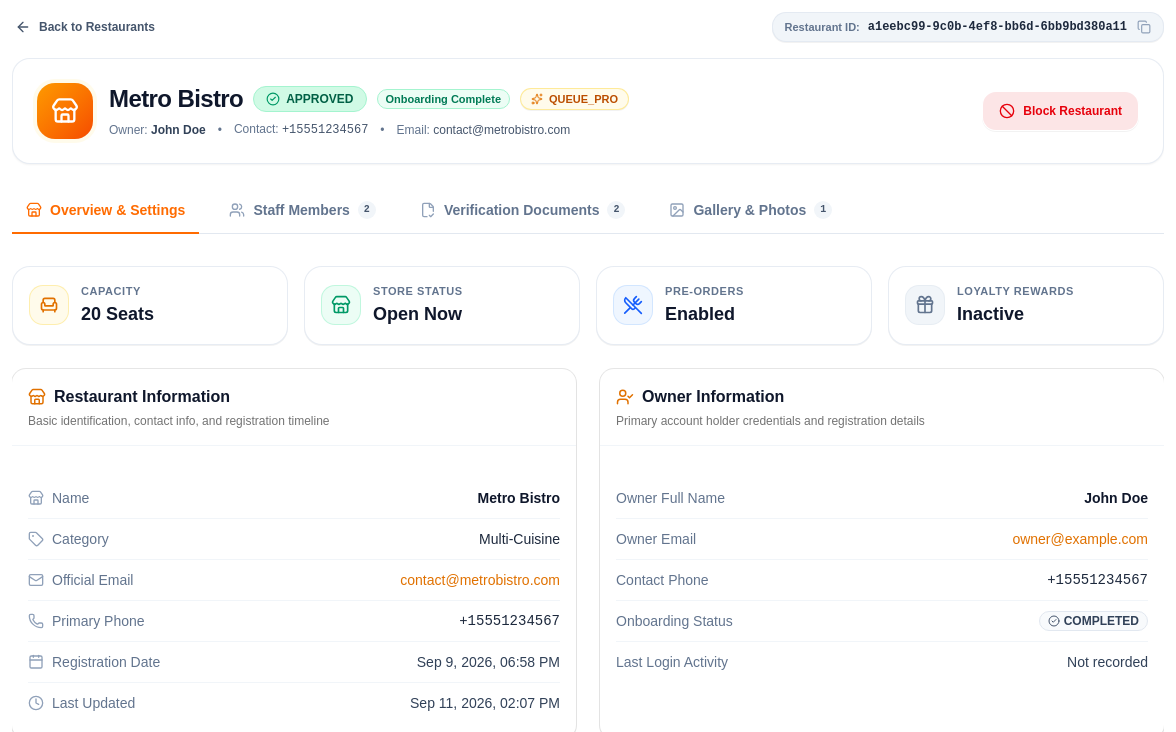
Test: AdminRestaurantDetailsPage › switches tabs to Staff, Documents, and Images correctly
Expected: the heading "Metro Bistro" is shown, 109,83 -> 243,115
Note: Switch to Staff Tab
Click the button with test id "tab-staff": click(303, 211) 215,188 -> 390,234
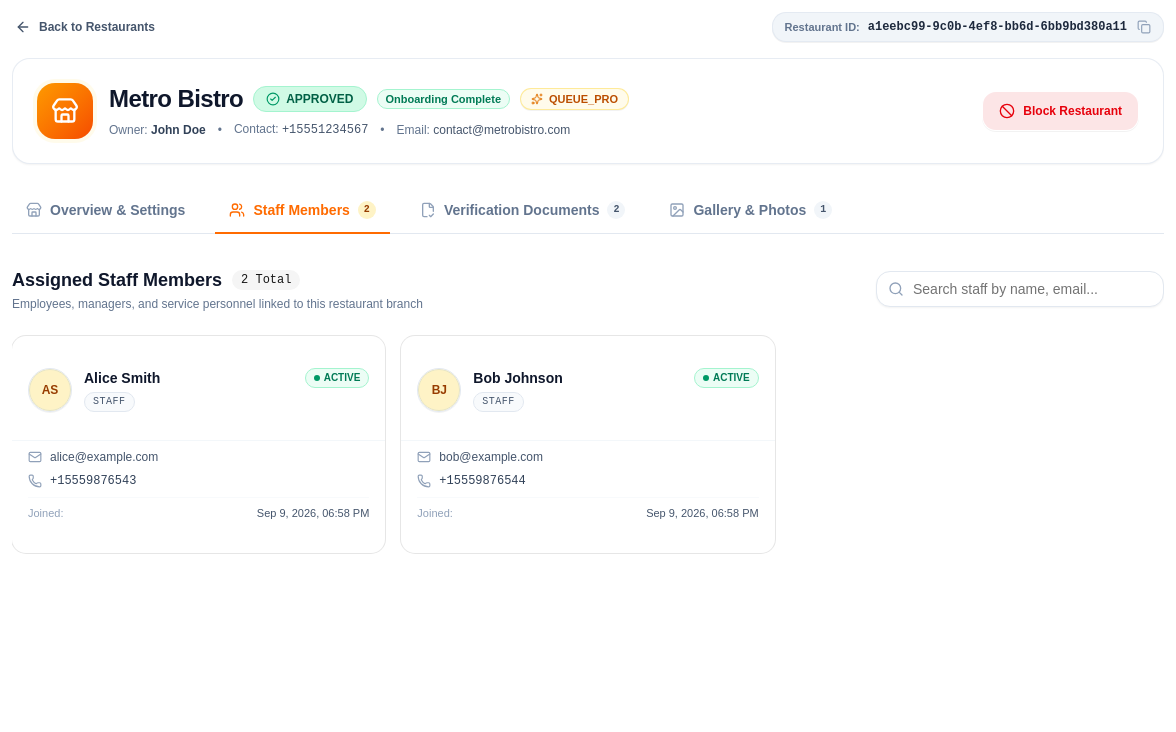
Expected: the element with test id "restaurant-staff-tab" is shown, 12,266 -> 1164,553
Expected: the text "Alice Smith" is shown, 84,368 -> 160,388
Expected: the text "Bob Johnson" is shown, 473,368 -> 563,388
Note: Switch to Documents Tab
Click the button with test id "tab-documents": click(523, 211) 406,188 -> 640,234
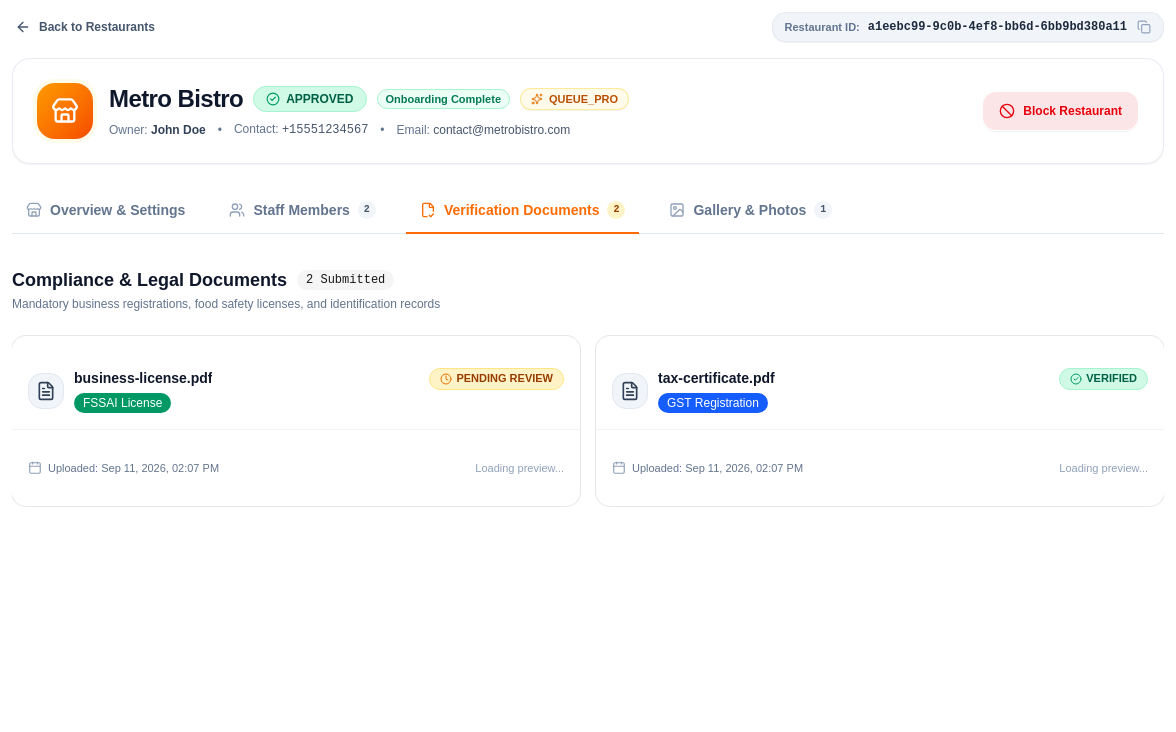
Expected: the element with test id "restaurant-documents-tab" is shown, 12,266 -> 1164,506
Expected: the text "business-license.pdf" is shown, 74,368 -> 212,388
Expected: the text "tax-certificate.pdf" is shown, 658,368 -> 775,388
Note: Switch to Images Tab
Click the button with test id "tab-images": click(751, 211) 656,188 -> 846,234
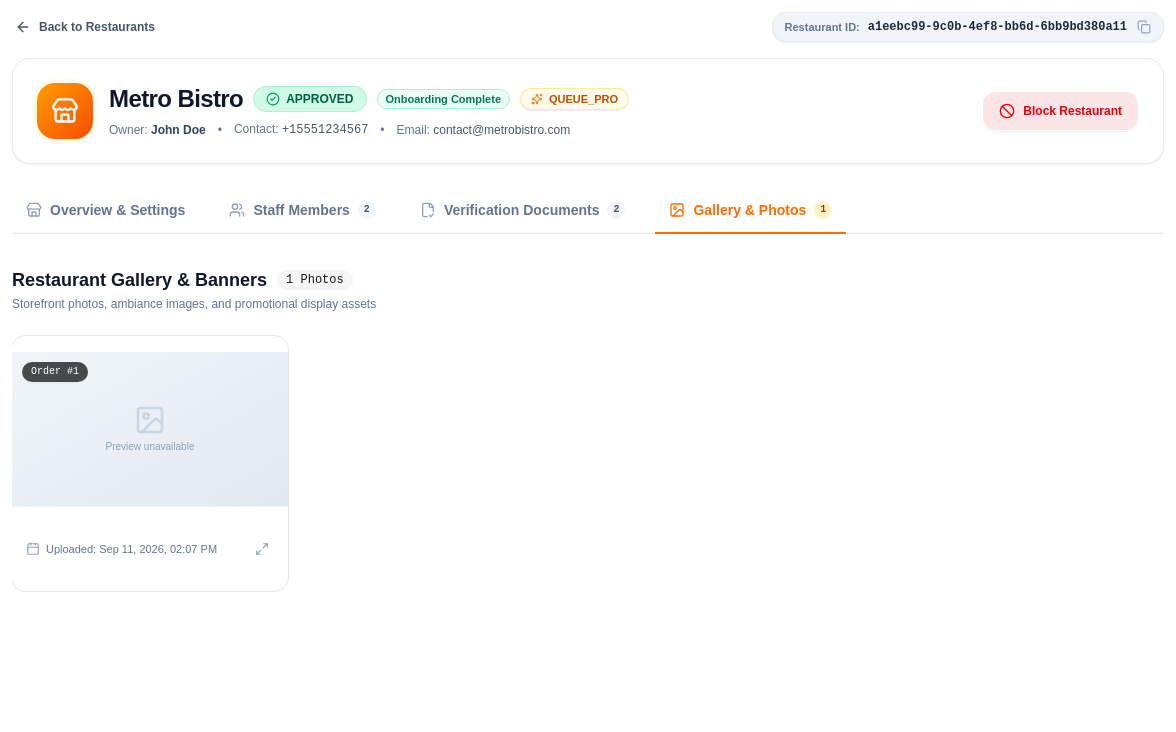
Expected: the element with test id "restaurant-images-tab" is shown, 12,270 -> 376,591
Expected: the element with test id "image-card-img-1" is shown, 12,336 -> 288,591
